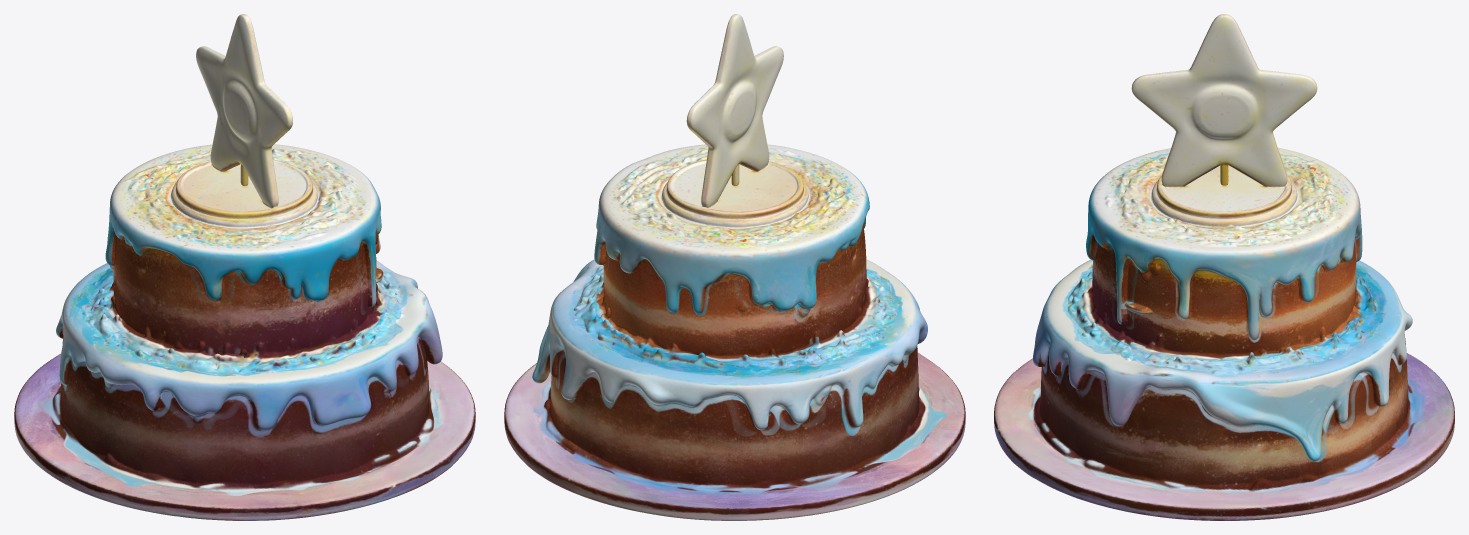
File: cake.glb
3 views of the same model, side by side, from view 1: azimuth 30°, elevation 25°; view 2: azimuth 150°, elevation 25°; view 3: azimuth 270°, elevation 25° (orthographic).
Visible parts, largest first — view 1: tripo_node_5829748e-d0f2-4f2e-bba8-86a83c76a33a; view 2: tripo_node_5829748e-d0f2-4f2e-bba8-86a83c76a33a; view 3: tripo_node_5829748e-d0f2-4f2e-bba8-86a83c76a33a.
Part boxes in pixels (x1,y1,x2,y2): tripo_node_5829748e-d0f2-4f2e-bba8-86a83c76a33a: [14, 14, 475, 520]; tripo_node_5829748e-d0f2-4f2e-bba8-86a83c76a33a: [504, 14, 965, 520]; tripo_node_5829748e-d0f2-4f2e-bba8-86a83c76a33a: [994, 14, 1454, 520].
Size of the model in its own units: 1 by 0.9805 by 0.9997.
Materials: 1 (1 with a texture image).
